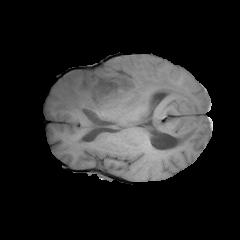glioma: (53, 59, 190, 126)
